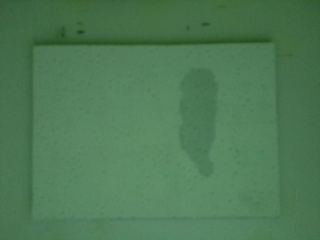Water_detected: (179, 79, 219, 164)
